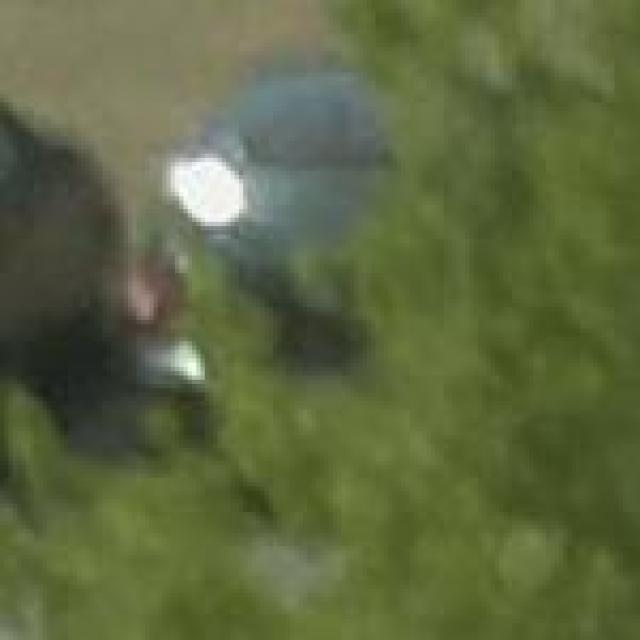cars-sUYr: (110, 28, 555, 467)
